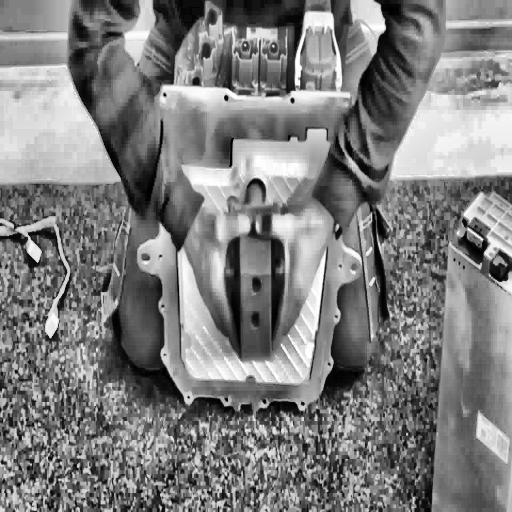connector: (222, 185, 285, 367)
